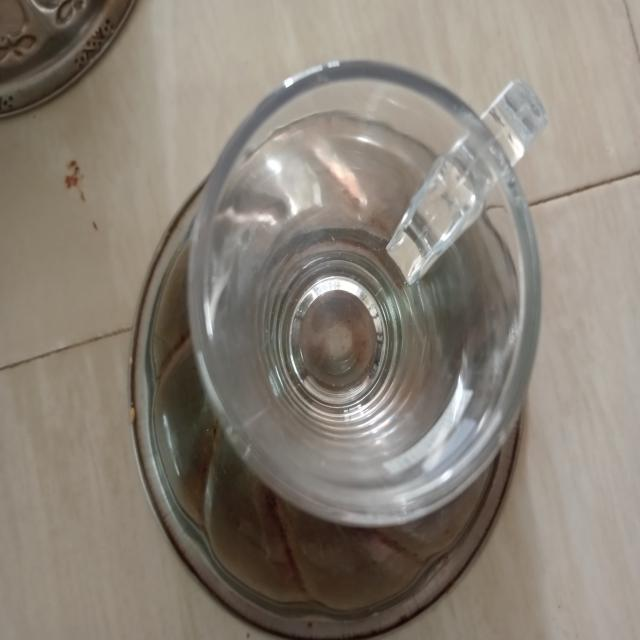glass-VX4N: (187, 49, 553, 529)
